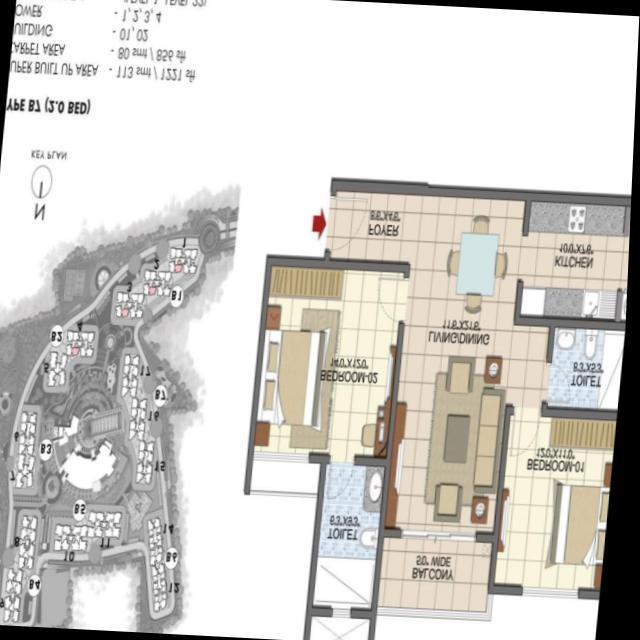Balcony-Sitout: (378, 526, 503, 621)
Bedroom: (251, 256, 411, 470), (491, 402, 622, 601)
Dining: (441, 206, 520, 319)
Enterance-Foyer: (301, 187, 417, 261)
Kitchen: (514, 190, 633, 332)
Living: (384, 352, 518, 544), (405, 192, 528, 356)
Toilet: (544, 319, 629, 421), (316, 461, 398, 557)
Utility: (617, 198, 633, 332)
